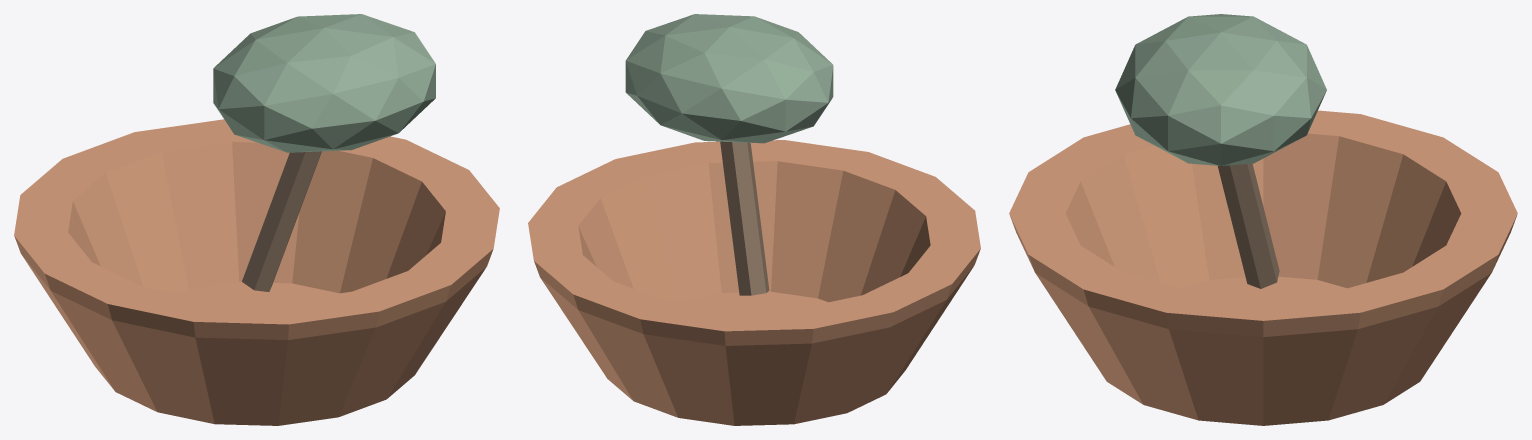
The model's file is env_garden_pot.glb.
The picture shows the model from 3 angles, left to right: view 1: azimuth 30°, elevation 25°; view 2: azimuth 150°, elevation 25°; view 3: azimuth 270°, elevation 25°; orthographic projection. The views are drawn at different scales.
Visible parts, largest first — view 1: env_garden_pot/garden_terracotta_pot_00000, env_garden_pot/bonsai_foliage_pad_00002, env_garden_pot/bonsai_mini_trunk_00001; view 2: env_garden_pot/garden_terracotta_pot_00000, env_garden_pot/bonsai_foliage_pad_00002, env_garden_pot/bonsai_mini_trunk_00001; view 3: env_garden_pot/garden_terracotta_pot_00000, env_garden_pot/bonsai_foliage_pad_00002, env_garden_pot/bonsai_mini_trunk_00001.
Part boxes in pixels (bbox=[...]): env_garden_pot/garden_terracotta_pot_00000: bbox=[14, 119, 499, 425]; env_garden_pot/bonsai_foliage_pad_00002: bbox=[213, 14, 435, 152]; env_garden_pot/bonsai_mini_trunk_00001: bbox=[242, 151, 321, 291]; env_garden_pot/garden_terracotta_pot_00000: bbox=[528, 140, 980, 425]; env_garden_pot/bonsai_foliage_pad_00002: bbox=[625, 14, 833, 143]; env_garden_pot/bonsai_mini_trunk_00001: bbox=[720, 141, 769, 295]; env_garden_pot/garden_terracotta_pot_00000: bbox=[1009, 110, 1517, 425]; env_garden_pot/bonsai_foliage_pad_00002: bbox=[1115, 14, 1326, 165]; env_garden_pot/bonsai_mini_trunk_00001: bbox=[1217, 163, 1279, 288].
Size of the model in its own units: 0.72 by 0.57 by 0.72.
